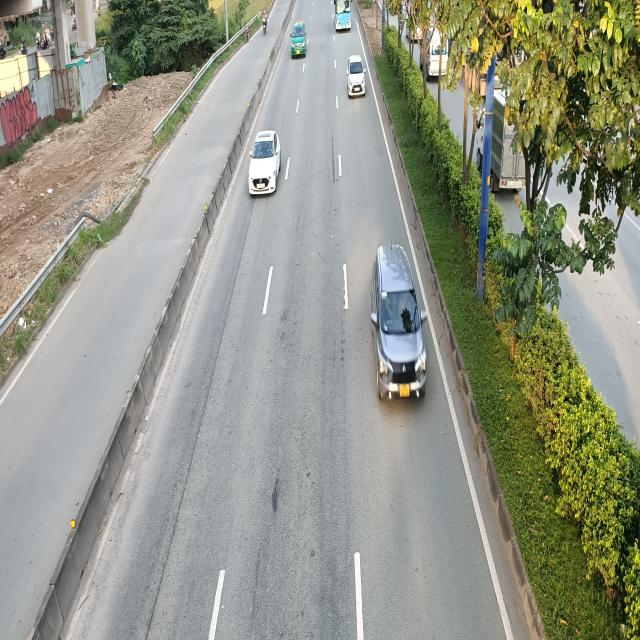car: (373, 242, 429, 399), (249, 132, 283, 197), (347, 55, 366, 97), (290, 20, 306, 57)
coach: (335, 0, 351, 33)
